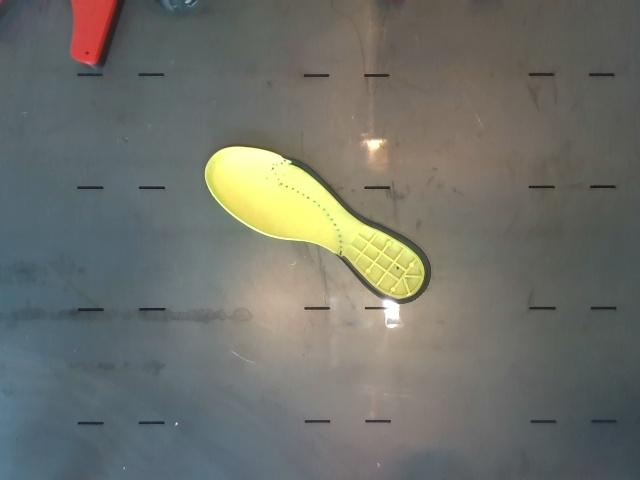shoes: (205, 147, 430, 304)
